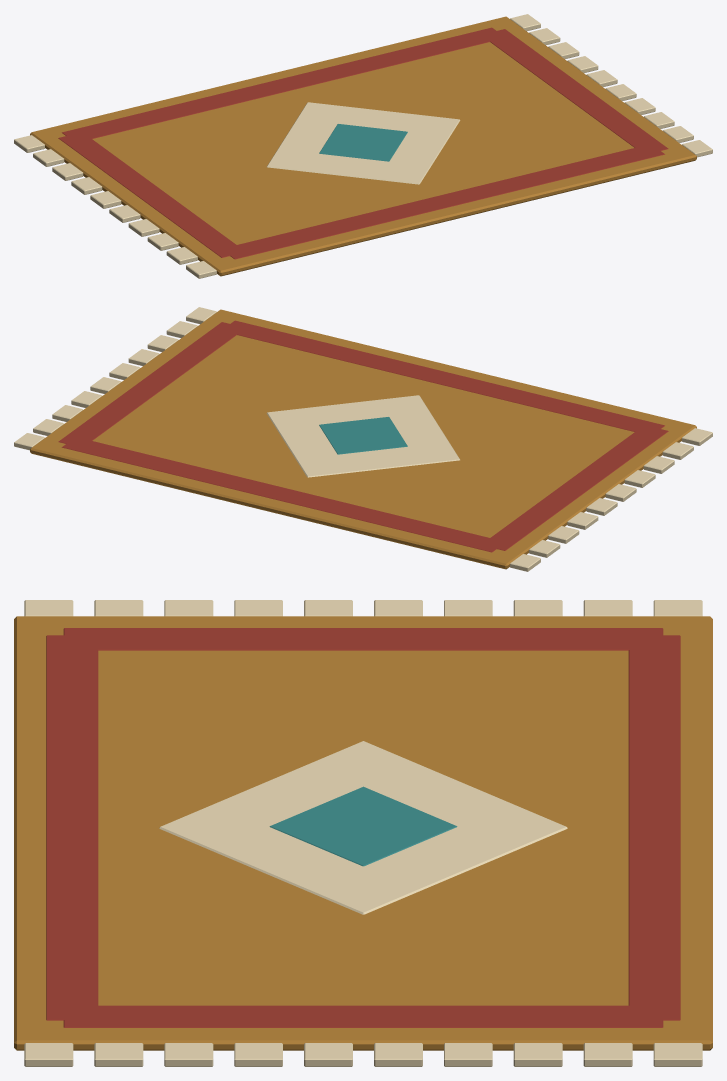
File: prop_rug_woven_a.glb
3 renders of one model, top to bottom at view 1: azimuth 30°, elevation 25°; view 2: azimuth 150°, elevation 25°; view 3: azimuth 270°, elevation 25°, orthographic. The views are drawn at different scales.
Visible parts, largest first — view 1: rug_body, rug_center_patch, rug_center_gem; view 2: rug_body, rug_center_patch, rug_center_gem; view 3: rug_body, rug_center_patch, rug_center_gem.
Boxes of the visible parts, x1,y1,x2,y2 form: rug_body: (30,16,696,276); rug_center_patch: (14,14,712,278); rug_center_gem: (319,124,407,161); rug_body: (30,309,696,569); rug_center_patch: (14,307,712,571); rug_center_gem: (319,417,407,454); rug_body: (14,616,712,1050); rug_center_patch: (24,600,702,1066); rug_center_gem: (269,786,457,866).
Bounding box in the file's own units: 2.8 × 0.036 × 1.8.
